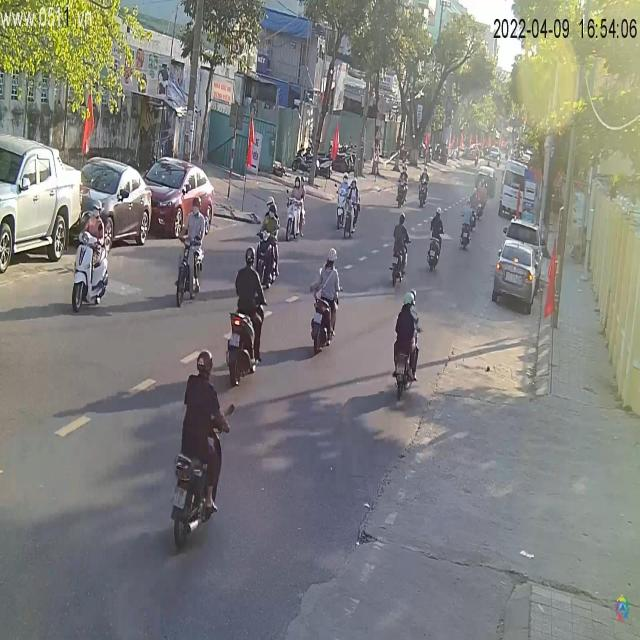car: (1, 134, 84, 278), (80, 160, 154, 248), (141, 156, 216, 241), (491, 226, 546, 316), (499, 159, 539, 221)
motorcycle: (170, 432, 224, 553), (72, 197, 115, 309), (225, 311, 259, 386), (391, 325, 421, 401), (311, 299, 335, 352), (284, 188, 307, 242), (390, 238, 410, 286), (427, 237, 442, 270)
